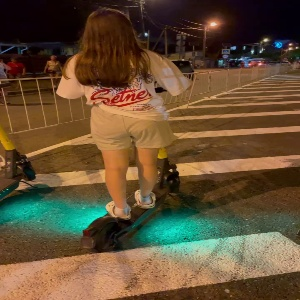human on a scooter: (54, 7, 186, 255)
